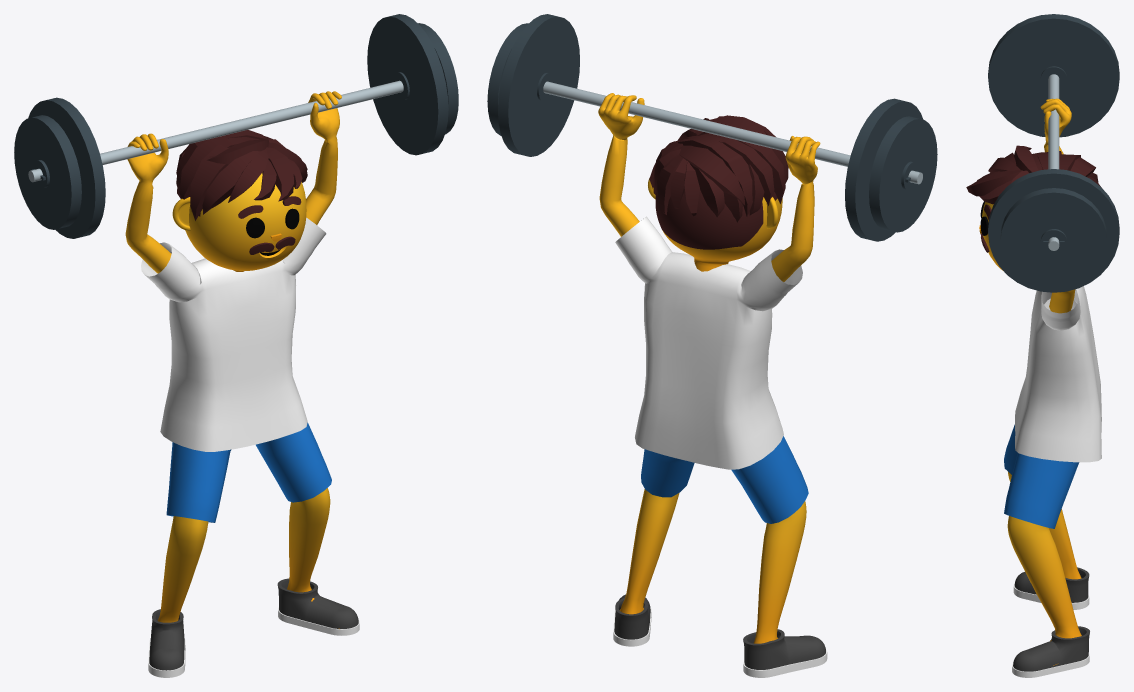
File: man_lifting_weights.fbx
3 views of the same model, side by side, from view 1: azimuth 30°, elevation 25°; view 2: azimuth 150°, elevation 25°; view 3: azimuth 270°, elevation 25° (orthographic). The views are drawn at different scales.
Parts seen in each view (by area): view 1: Circle.161, Circle.160, Cube.298, Roundcube.470, Sphere.439, Sphere.440; view 2: Circle.161, Circle.160, Cube.298, Roundcube.470, Sphere.440, Sphere.439; view 3: Circle.160, Circle.161, Cube.298, Sphere.439, Sphere.440.
Boxes of the visible parts, bbox=[...] form: Circle.161: bbox=[125, 91, 341, 628]; Circle.160: bbox=[14, 14, 458, 238]; Cube.298: bbox=[176, 130, 307, 220]; Roundcube.470: bbox=[185, 173, 306, 271]; Sphere.439: bbox=[277, 578, 359, 635]; Sphere.440: bbox=[148, 609, 185, 677]; Circle.161: bbox=[598, 93, 820, 643]; Circle.160: bbox=[487, 14, 937, 241]; Cube.298: bbox=[649, 115, 788, 222]; Roundcube.470: bbox=[655, 189, 782, 271]; Sphere.440: bbox=[743, 629, 827, 677]; Sphere.439: bbox=[613, 594, 651, 646]; Circle.160: bbox=[988, 14, 1119, 292]; Circle.161: bbox=[1004, 98, 1101, 665]; Cube.298: bbox=[966, 145, 1101, 204]; Sphere.439: bbox=[1012, 626, 1089, 677]; Sphere.440: bbox=[1013, 567, 1089, 609].
Size of the model in its own units: 177 by 238 by 61.79.
Materials: 2 (2 with a texture image).
